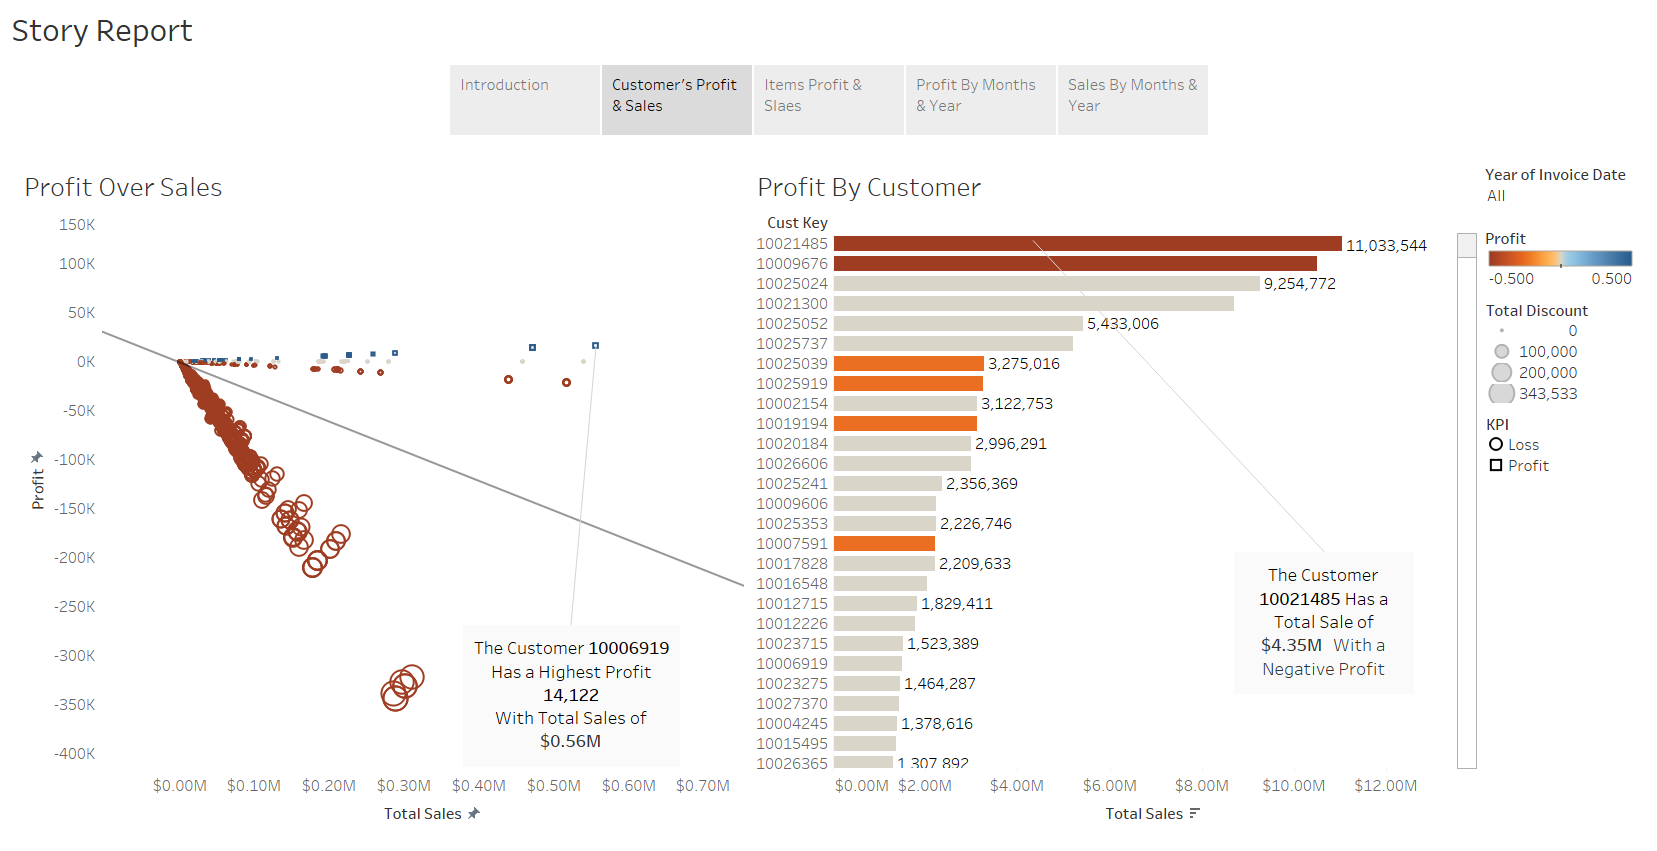

Layout of this report page (visuals, bound fields, positions):
{"tool":"tableau","page":{"name":"Profit and Discount","canvas":[1000,1000],"units":"permille","ordinal":3},"visuals":[{"type":"worksheet","title":"Profit Over Sales","mark":"Automatic","rows":["Profit"],"cols":["Total Sales"],"box":[4.8,9.4,446.9,981.2]},{"type":"worksheet","title":"Sales By Customer","mark":"Automatic","rows":["CustKey"],"cols":["Total Sales"],"box":[451.7,9.4,446.9,981.2]},{"type":"filter","title":"Profit Over Sales","param":"[federated.0ecjack1chjh4a12fkh7a0i64tfm].[yr:Invoice Date:ok]","box":[898.6,9.4,96.6,71.7]},{"type":"legend","title":"Profit Over Sales","param":"[federated.0ecjack1chjh4a12fkh7a0i64tfm].[sum:Profit:qk]","box":[898.6,81.1,96.6,85.8]},{"type":"legend","title":"Profit Over Sales","param":"[federated.0ecjack1chjh4a12fkh7a0i64tfm].[sum:Total Discount:qk]","box":[898.6,166.9,96.6,134]},{"type":"legend","title":"Profit Over Sales","param":"[federated.0ecjack1chjh4a12fkh7a0i64tfm].[none:Calculation_972777524929589250:nk","box":[898.6,300.8,96.6,84.6]}]}

Visuals, with their boxes on the dashboard's canvas, which has no fixed pixel size, in thousandths of its width and height (x1, y1, x2, y2). These are canvas units, not pixel positions in the 1657x851 screenshot, which may show the page scaled, cropped or inside an application window:
"Profit Over Sales" worksheet: Rect(5, 9, 452, 991)
"Sales By Customer" worksheet: Rect(452, 9, 899, 991)
"Profit Over Sales" filter: Rect(899, 9, 995, 81)
"Profit Over Sales" legend: Rect(899, 81, 995, 167)
"Profit Over Sales" legend: Rect(899, 167, 995, 301)
"Profit Over Sales" legend: Rect(899, 301, 995, 385)
